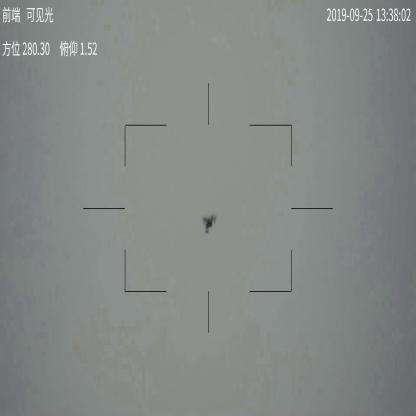uav: (200, 214, 217, 236)
